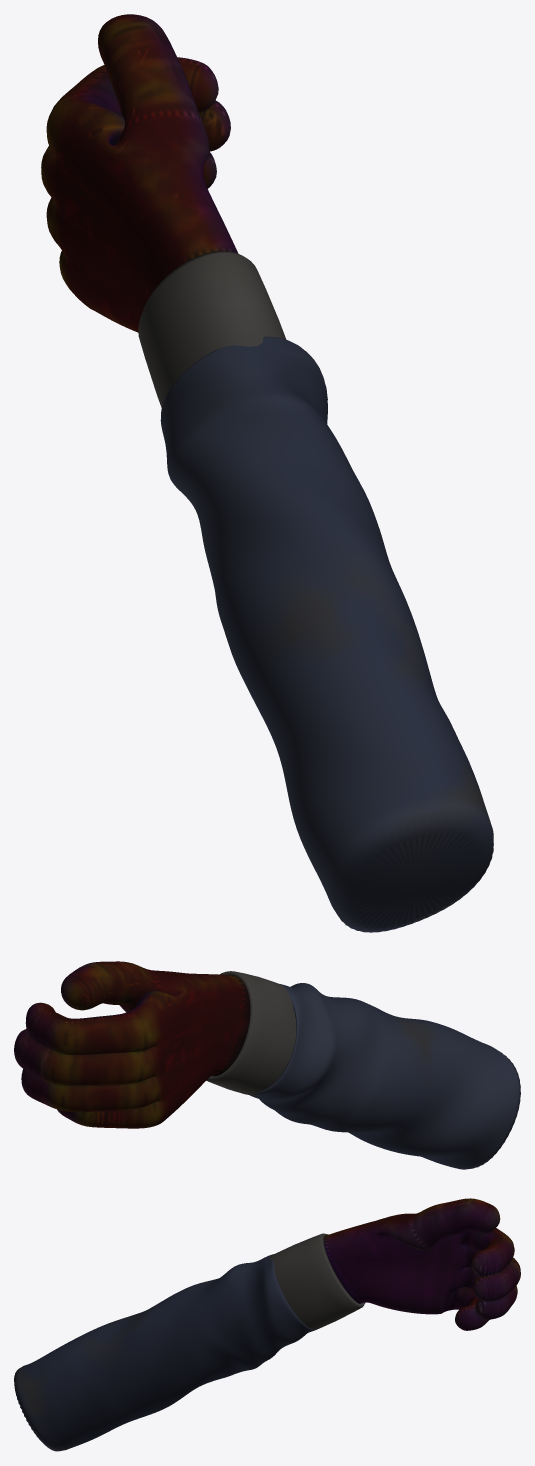
Rendered from fp_hand_L_pinch.glb.
3 views of the same model, one above another, from view 1: azimuth 30°, elevation 25°; view 2: azimuth 150°, elevation 25°; view 3: azimuth 270°, elevation 25° (orthographic). The views are drawn at different scales.
Parts seen in each view (by area): view 1: fp_hand_L_pinch; view 2: fp_hand_L_pinch; view 3: fp_hand_L_pinch.
Boxes of the visible parts, x1,y1,x2,y2 form: fp_hand_L_pinch: (41,14,493,932); fp_hand_L_pinch: (14,961,520,1169); fp_hand_L_pinch: (14,1198,520,1451).
Bounding box in the file's own units: 0.155 × 0.2542 × 0.4088.
Materials: 3 (1 with a texture image).
